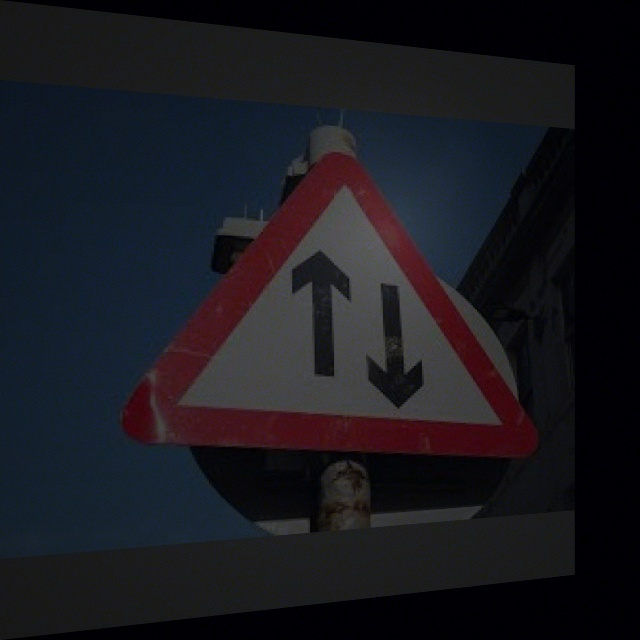Mandatory_Two_Way_Traffic: (128, 138, 541, 486)
